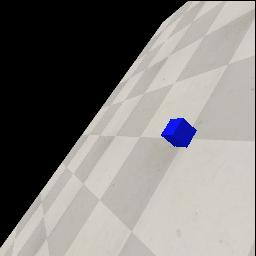box: (161, 118, 197, 148)
